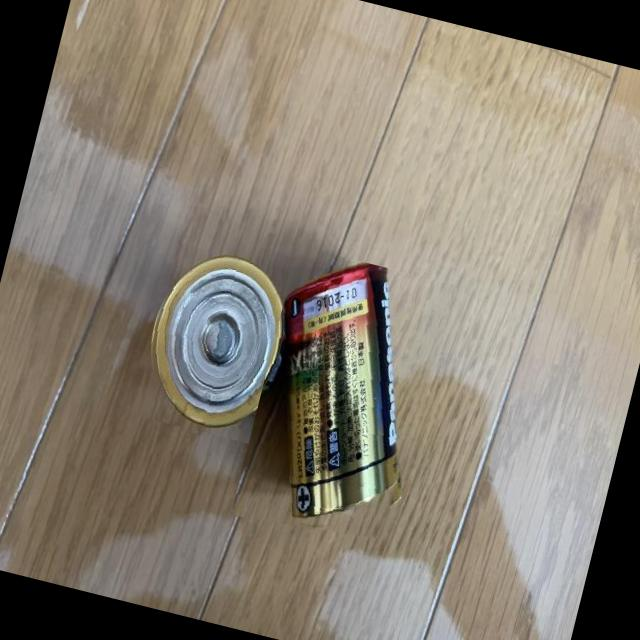Hazard: (230, 245, 454, 556), (128, 230, 308, 447)
